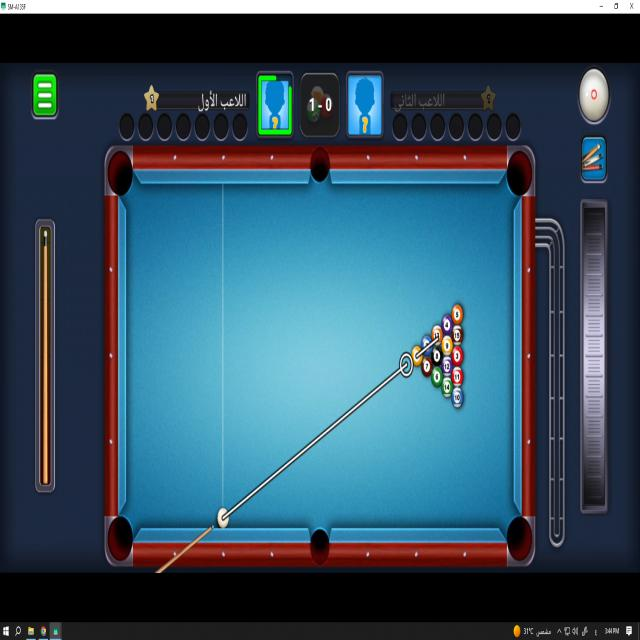object_ball: (411, 345, 423, 367), (441, 356, 454, 376), (431, 367, 443, 387), (421, 356, 433, 376), (442, 315, 453, 335), (451, 346, 462, 366), (442, 377, 453, 397), (441, 336, 453, 354), (452, 367, 463, 386), (431, 347, 442, 366), (452, 387, 462, 407), (452, 304, 462, 324), (452, 326, 462, 345), (432, 326, 442, 345), (432, 326, 442, 344), (421, 335, 432, 348), (421, 335, 431, 349)
white_cue_ball: (579, 69, 609, 122), (217, 508, 228, 528)
